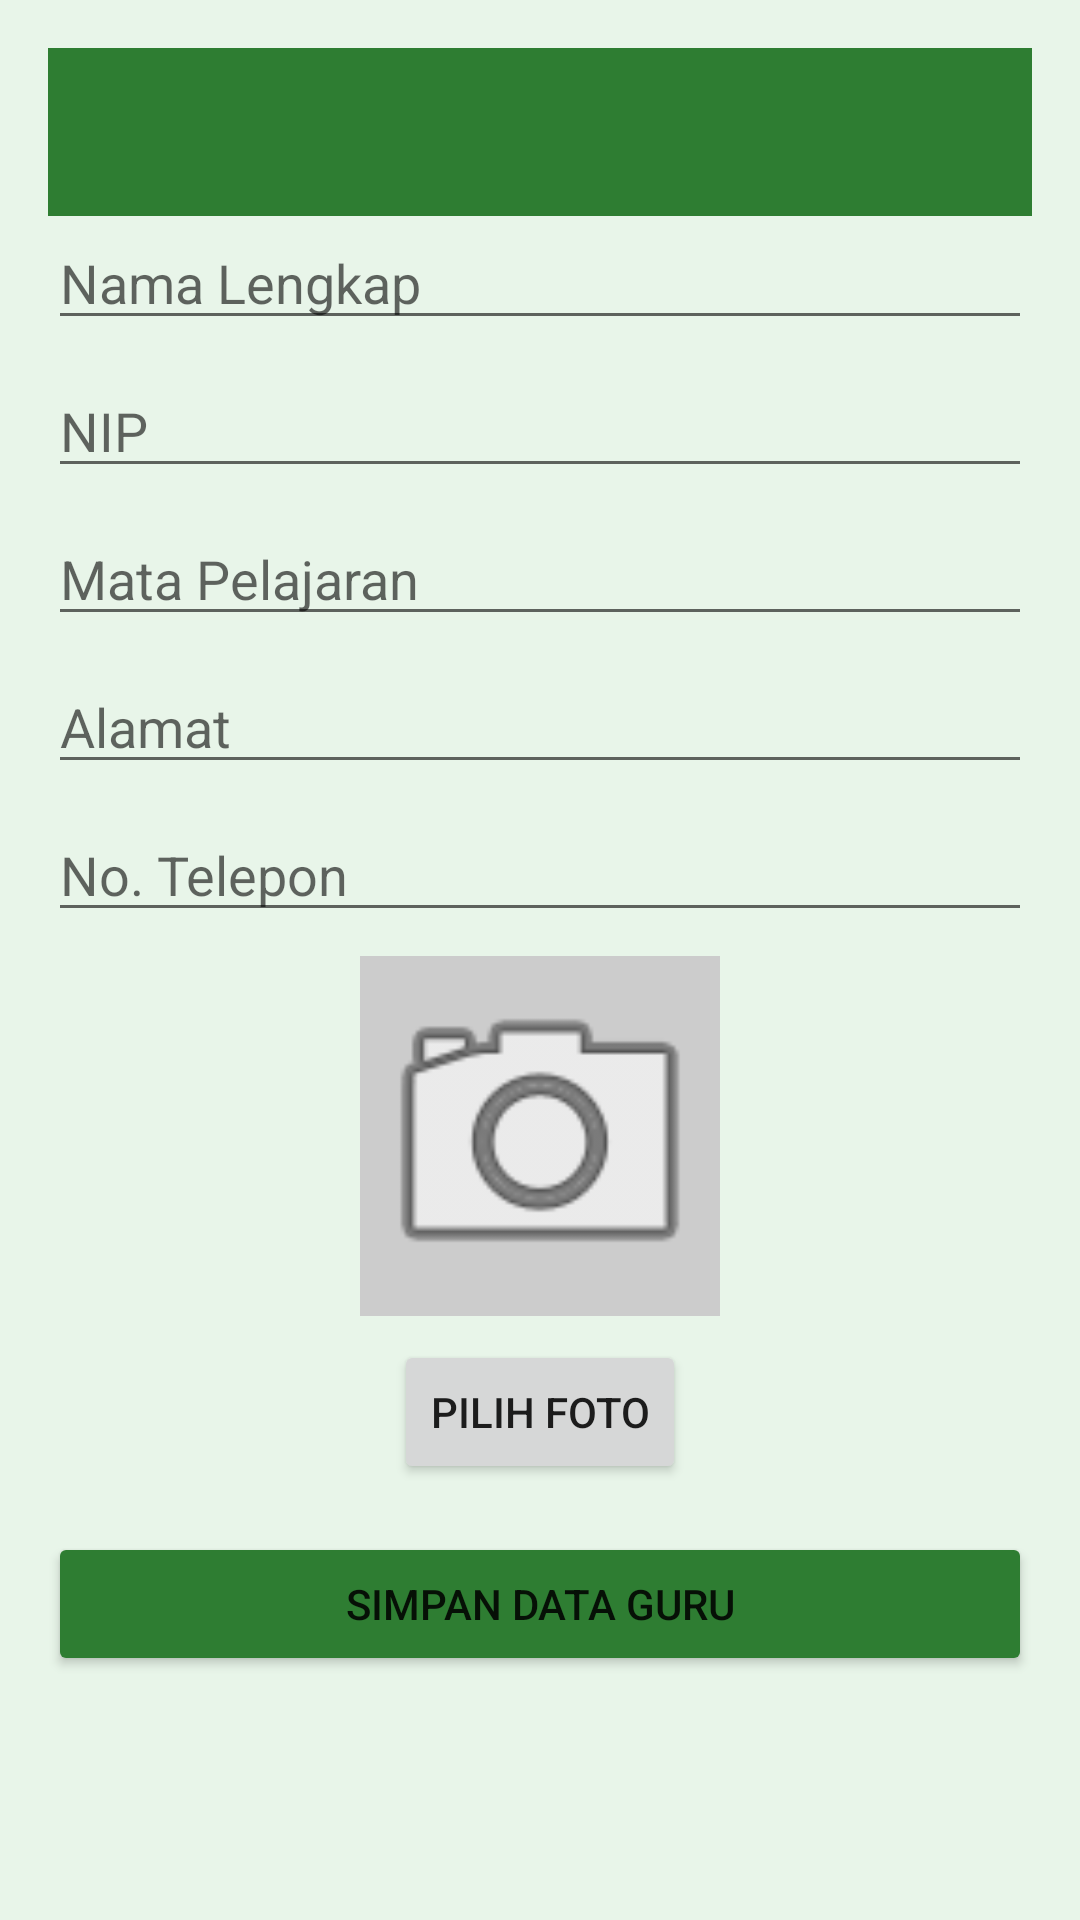

Icon click points for this 1080w x 1920h phone screenshot, format (x,y):
camera: (540,1136)
